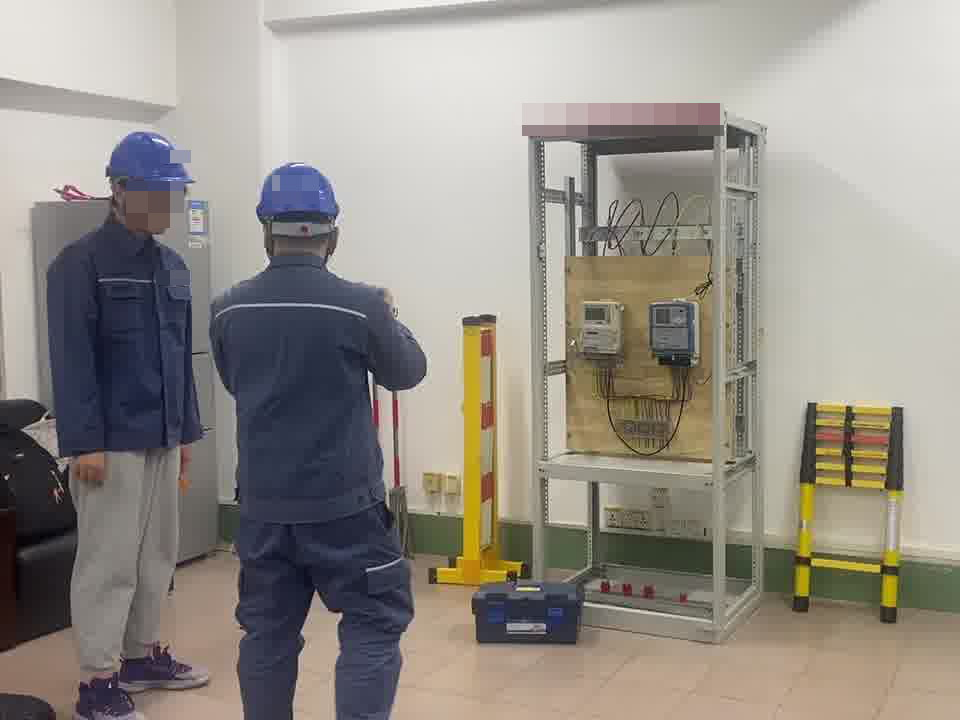downcloth: (65, 462, 181, 660)
downsuit: (227, 522, 413, 720)
halt: (105, 130, 193, 235), (255, 162, 344, 262)
hand: (75, 452, 113, 490)
inear: (107, 180, 143, 215)
person: (208, 156, 441, 720), (40, 127, 199, 717)
upsuit: (207, 264, 424, 512), (47, 228, 193, 456)
